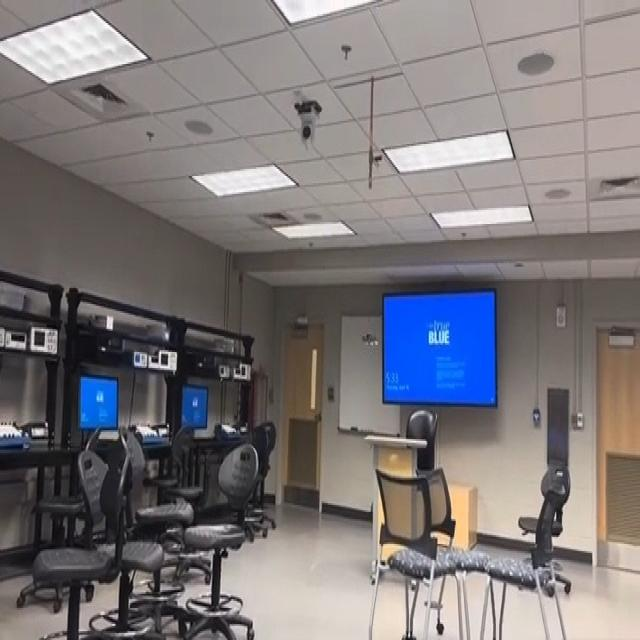drone: (351, 316, 386, 367)
